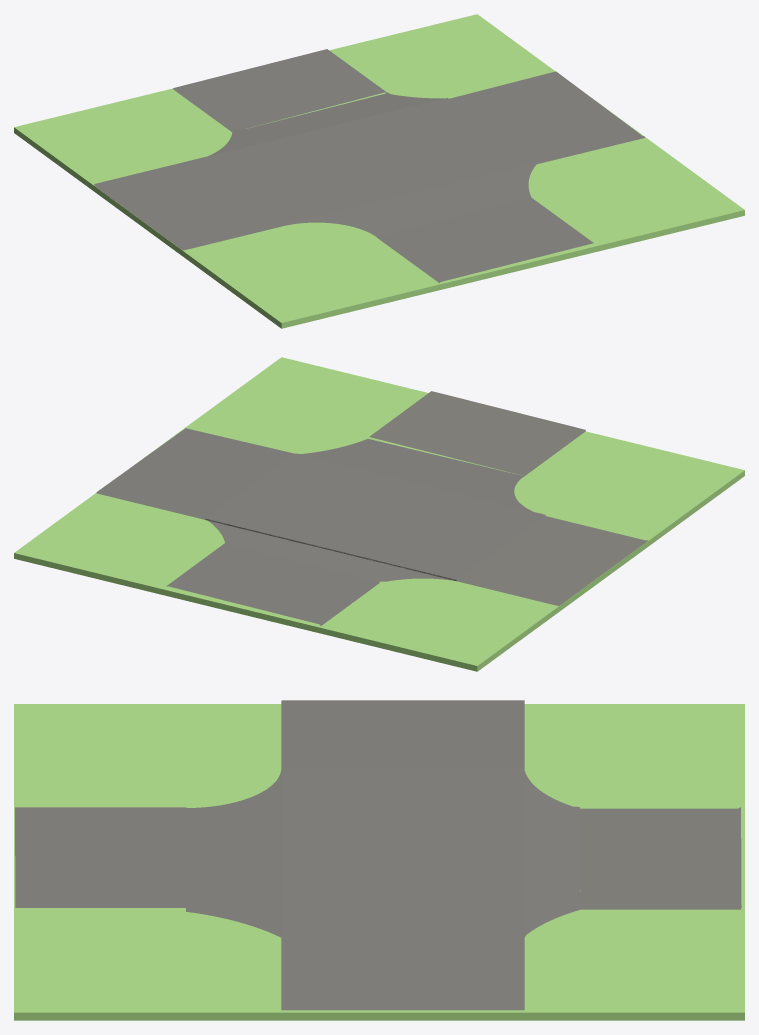
The model's file is Jalan persimpangan 2.fbx.
3 views of the same model, one above another, from view 1: azimuth 30°, elevation 25°; view 2: azimuth 150°, elevation 25°; view 3: azimuth 270°, elevation 25° (orthographic). The views are drawn at different scales.
Visible parts, largest first — view 1: Plane.002, Cube; view 2: Plane.002, Cube; view 3: Plane.002, Cube.
Part boxes in pixels (box(x1,y1,x2,y2)): Plane.002: box(94, 49, 645, 283); Cube: box(14, 14, 744, 328); Plane.002: box(96, 391, 647, 625); Cube: box(14, 357, 744, 671); Plane.002: box(15, 700, 741, 1010); Cube: box(14, 704, 744, 1020).
Bounding box in the file's own units: 3013 × 55.73 × 3010.
